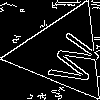W: (37, 28, 100, 90)
